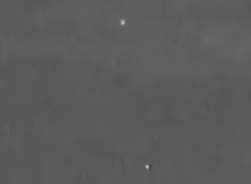Target: (122, 21, 148, 169)
